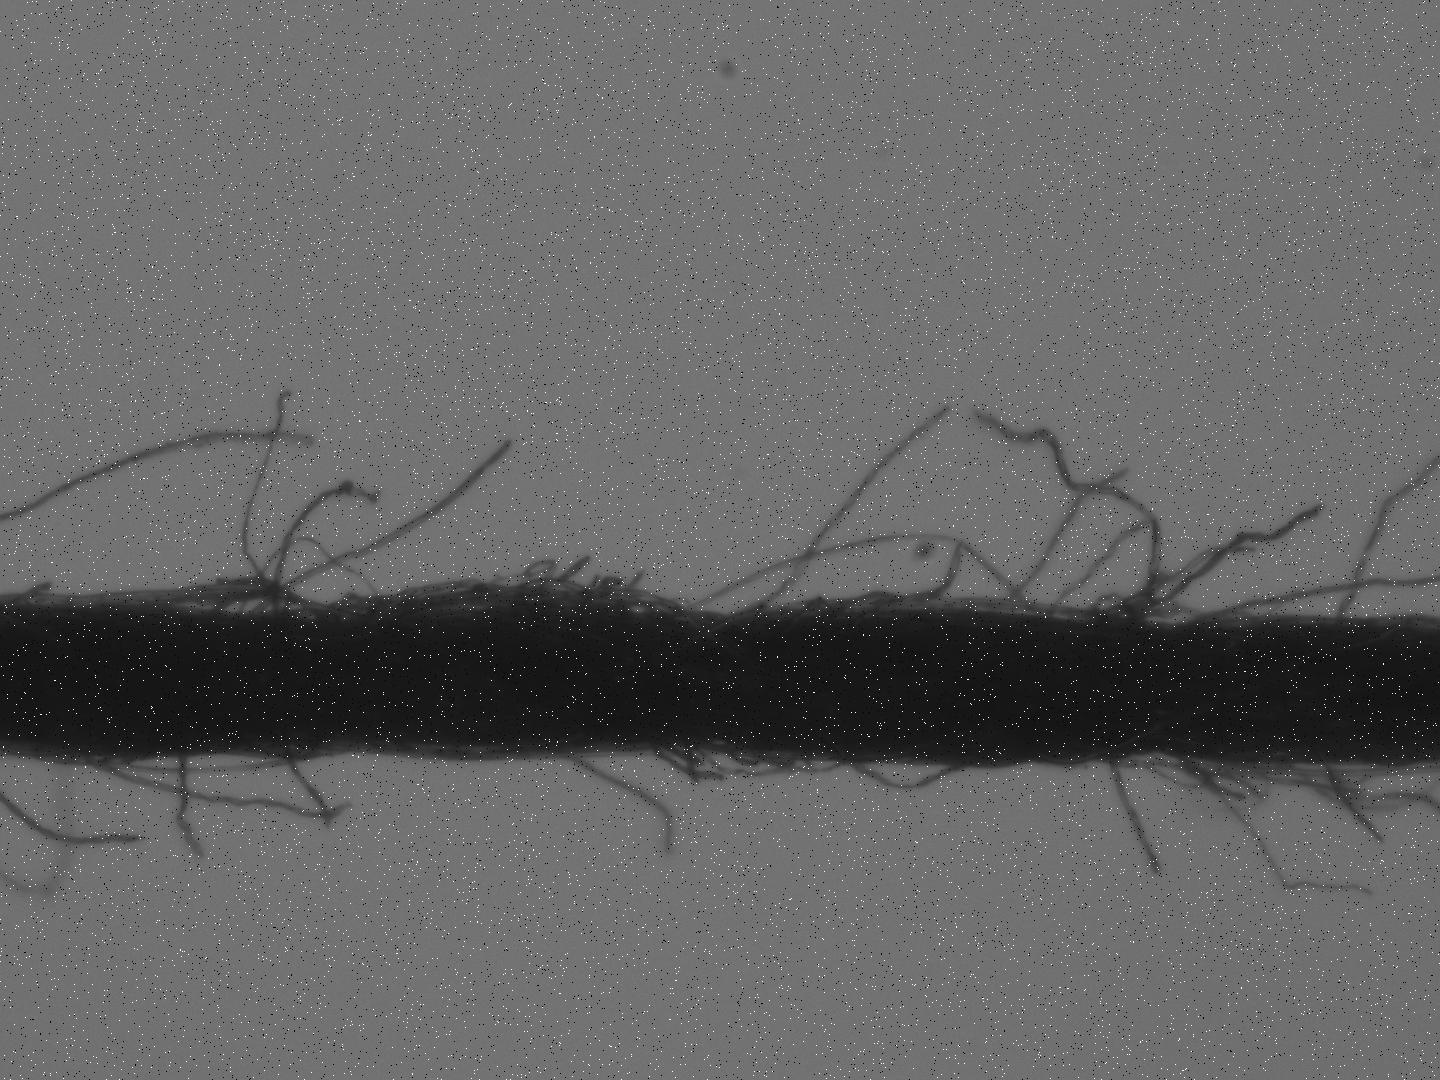loop_fiber: (689, 529, 1040, 615), (317, 574, 520, 630), (695, 744, 844, 783), (1082, 593, 1201, 639), (569, 584, 686, 622), (847, 754, 962, 792), (513, 574, 599, 614), (715, 744, 764, 770), (755, 749, 802, 769)
protruding_fiber: (256, 433, 516, 616), (972, 402, 1160, 632), (552, 757, 674, 854), (1101, 759, 1160, 872), (1323, 767, 1386, 842), (175, 745, 211, 862)
